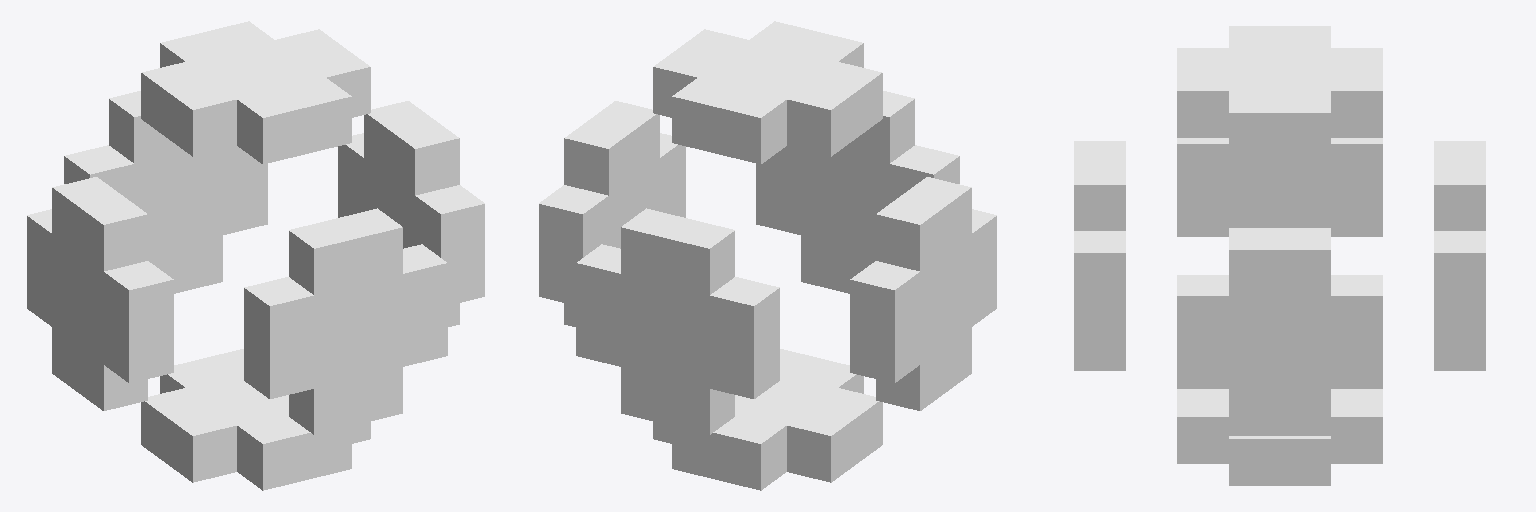
The model's file is healBall-2.obj.
3 views of the same model, side by side, from view 1: azimuth 30°, elevation 25°; view 2: azimuth 150°, elevation 25°; view 3: azimuth 270°, elevation 25° (orthographic).
Visible parts, largest first — view 1: object 1; view 2: object 1; view 3: object 1.
Boxes of the visible parts, x1=… form: object 1: x1=27, y1=21, x2=484, y2=490; object 1: x1=539, y1=21, x2=996, y2=490; object 1: x1=1074, y1=26, x2=1485, y2=485.
Size of the model in its own units: 0.8 by 0.8 by 0.8.